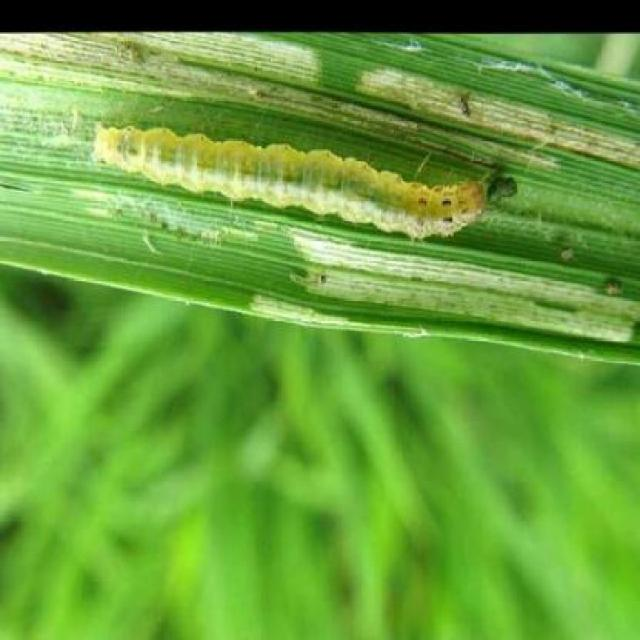leaf-folder: (80, 105, 558, 263)
